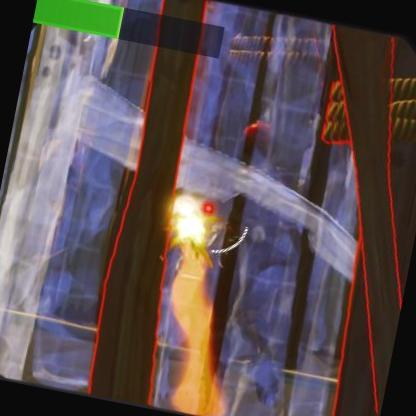person: (192, 112, 312, 338)
